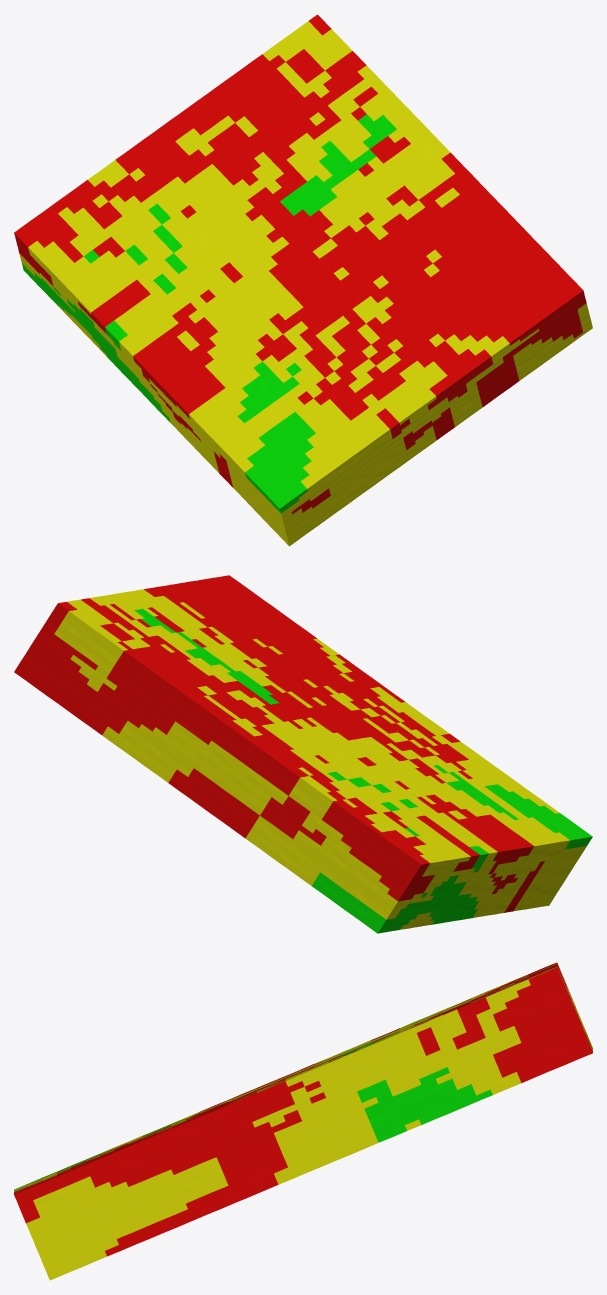
Rendered from voxels_autoloc.glb.
The picture shows the model from 3 angles, top to bottom: view 1: azimuth 30°, elevation 25°; view 2: azimuth 150°, elevation 25°; view 3: azimuth 270°, elevation 25°; orthographic projection. The views are drawn at different scales.
Parts seen in each view (by area): view 1: world; view 2: world; view 3: world.
Part boxes in pixels (bbox=[...]): world: bbox=[14, 14, 592, 546]; world: bbox=[14, 575, 592, 933]; world: bbox=[14, 962, 592, 1280].
Size of the model in its own units: 960 by 801 by 934.
